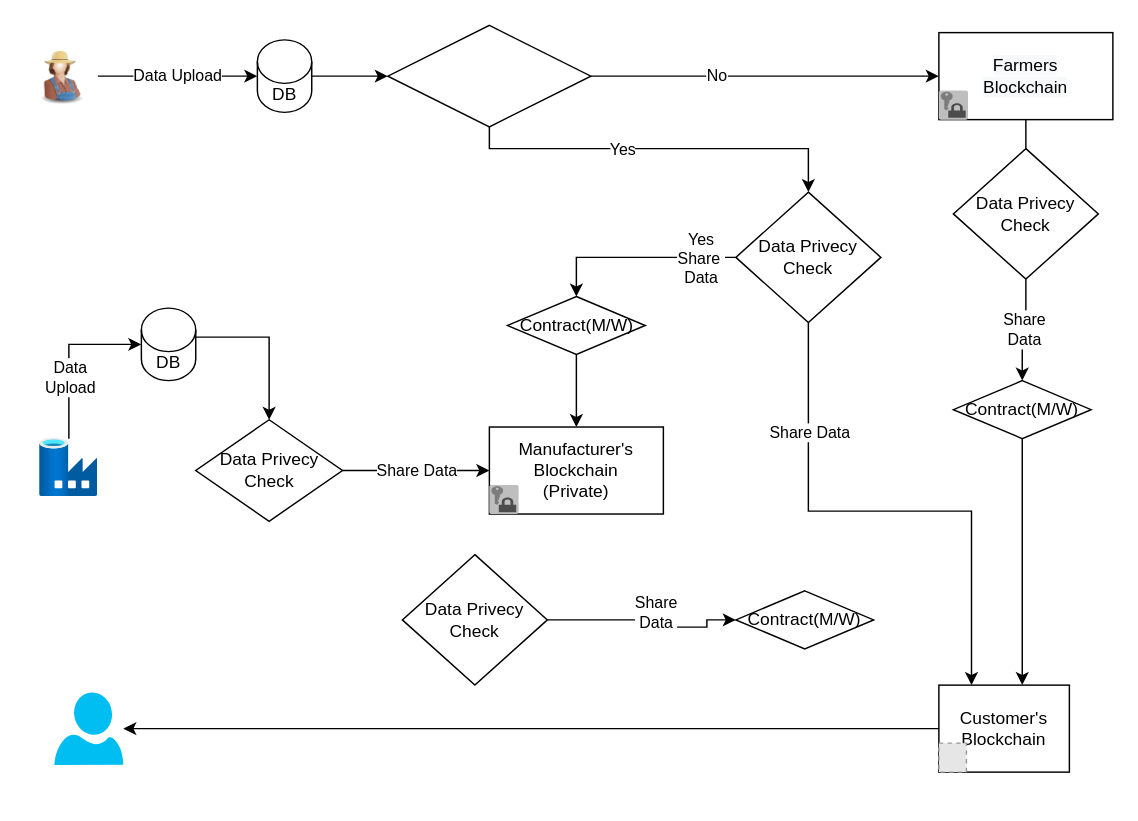
This 1138x821 diagram has some shape labels left out. Grey dashed boxes stand in for pictures. The shapes that lost their labels are listed below. From the top down, each one's centre as x and y in pixels, then its label:
At (x=61, y=75): "Farmer".
At (x=488, y=75): "Need Manufacture or Warehouse".
At (x=88, y=728): "Consumer".
